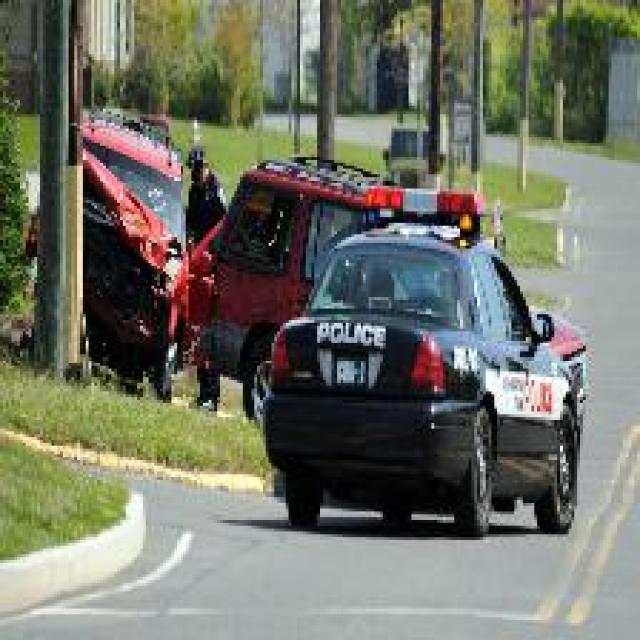Police-car: (252, 220, 588, 534)
